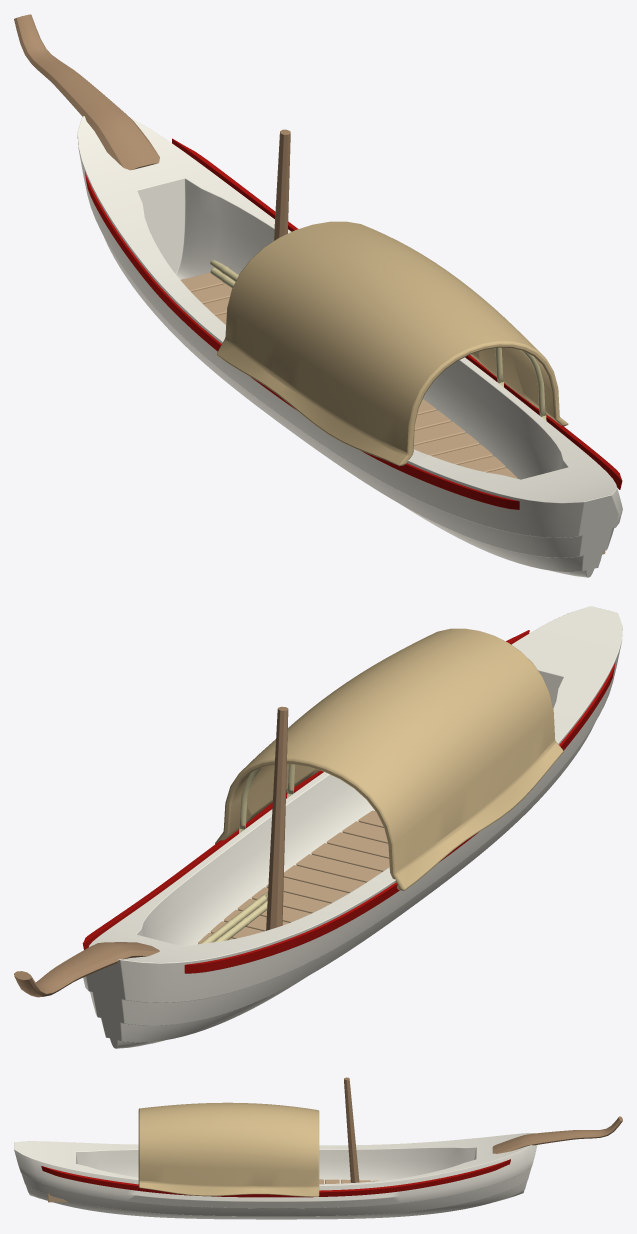
File: boat_lepa_17838.glb
The picture shows the model from 3 angles, top to bottom: view 1: azimuth 30°, elevation 25°; view 2: azimuth 150°, elevation 25°; view 3: azimuth 270°, elevation 25°; orthographic projection. The views are drawn at different scales.
Parts seen in each view (by area): view 1: lepa_17838_paint_hull, lepa_17838_thatch, lepa_17838_timber, lepa_17838_paint_trim, lepa_17838_plank, lepa_17838_bamboo; view 2: lepa_17838_paint_hull, lepa_17838_thatch, lepa_17838_plank, lepa_17838_timber, lepa_17838_paint_trim, lepa_17838_bamboo; view 3: lepa_17838_paint_hull, lepa_17838_thatch, lepa_17838_paint_trim, lepa_17838_timber, lepa_17838_plank.
Part boxes in pixels (x1=…): lepa_17838_paint_hull: x1=77, y1=116, x2=622, y2=577; lepa_17838_thatch: x1=216, y1=221, x2=568, y2=466; lepa_17838_timber: x1=14, y1=14, x2=290, y2=240; lepa_17838_paint_trim: x1=85, y1=138, x2=622, y2=509; lepa_17838_plank: x1=180, y1=272, x2=605, y2=554; lepa_17838_bamboo: x1=210, y1=260, x2=546, y2=420; lepa_17838_paint_hull: x1=83, y1=606, x2=622, y2=1048; lepa_17838_thatch: x1=215, y1=628, x2=563, y2=890; lepa_17838_plank: x1=198, y1=810, x2=389, y2=944; lepa_17838_timber: x1=14, y1=706, x2=288, y2=997; lepa_17838_paint_trim: x1=82, y1=630, x2=615, y2=973; lepa_17838_bamboo: x1=200, y1=764, x2=295, y2=943; lepa_17838_paint_hull: x1=14, y1=1133, x2=537, y2=1219; lepa_17838_thatch: x1=138, y1=1102, x2=319, y2=1196; lepa_17838_paint_trim: x1=41, y1=1159, x2=510, y2=1197; lepa_17838_timber: x1=344, y1=1077, x2=622, y2=1182; lepa_17838_plank: x1=48, y1=1179, x2=379, y2=1202.
Size of the model in its own units: 1.98 by 2.49 by 10.34.
